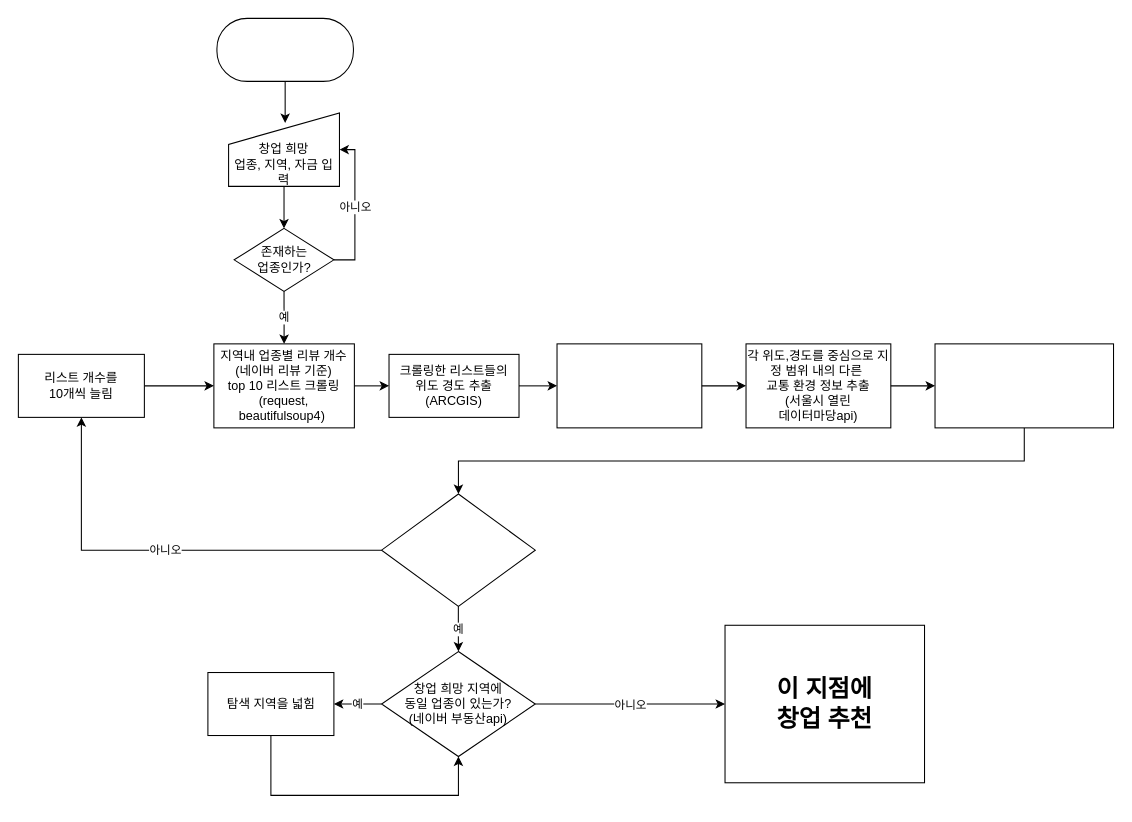
Image size: 1132x822. Some labels were removed from this diagram. The shapes that lost their labels are listed below. From the top down, each one's centre as x and y in pixels, then its label:
At (284,49): "시크릿 스페이스 프로그램 시작".
At (629,385): "각 위도,경도를 중심으로 지정 범위 내의 다른 업체 정보 추출 (공공데이터포털 상권API)".
At (1024,385): "각 위도,경도를 중심으로 지정 범위 내의 다른 공기관(학교 등) 정보 추출 (네이버 지도api)".
At (458,549): "위의 정보를 바탕으로 top10 리스트의 공통점 도출할 수 있는가?".
